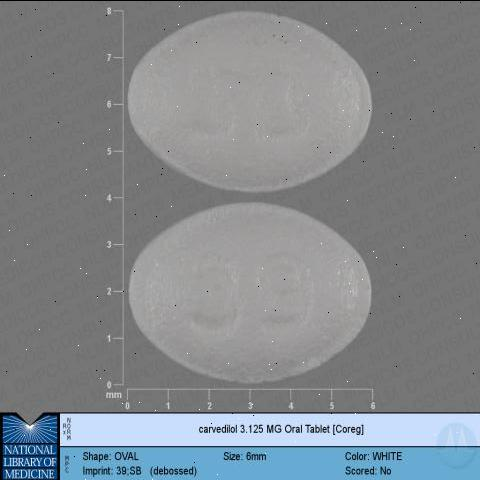Pill: (119, 192, 384, 396), (120, 4, 393, 200)
